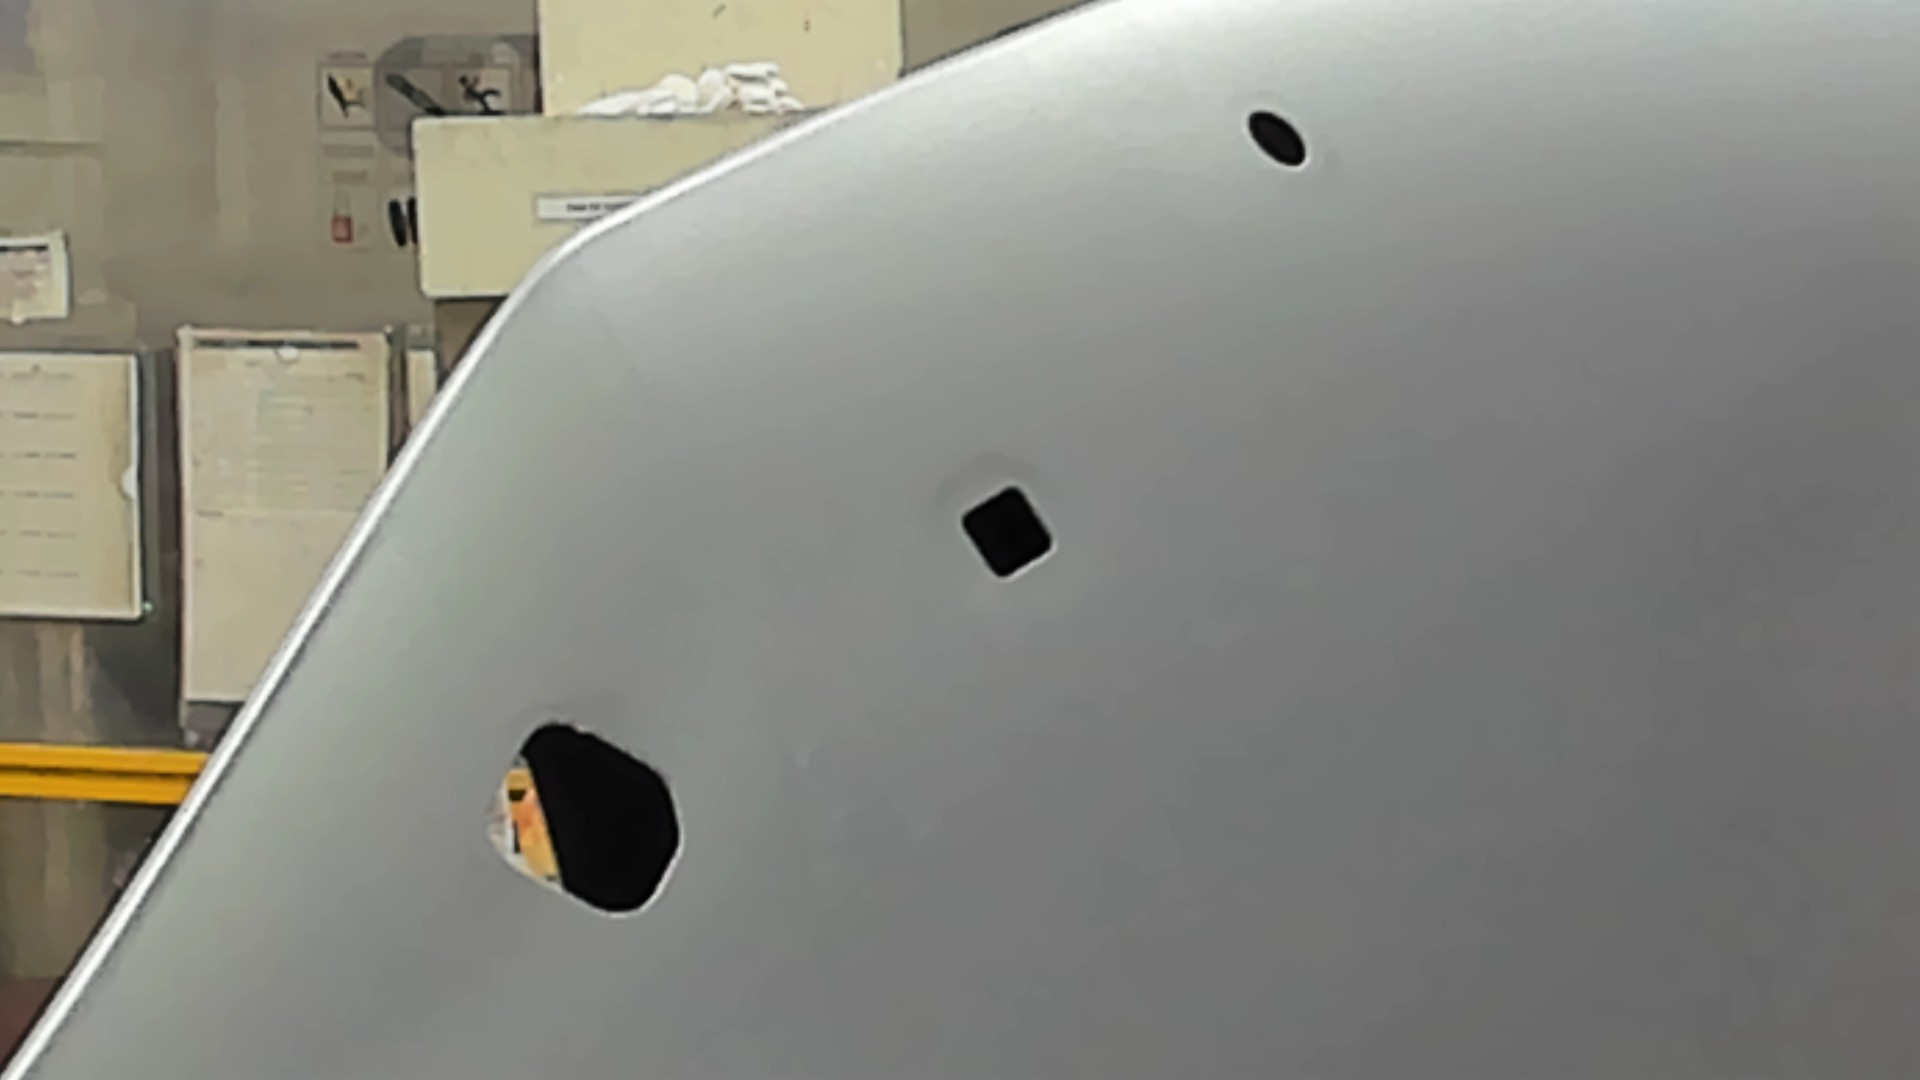capo: (1060, 171, 1920, 1080)
chico: (1238, 104, 1317, 179)
grande: (469, 713, 684, 922)
mediano: (947, 477, 1062, 582)
